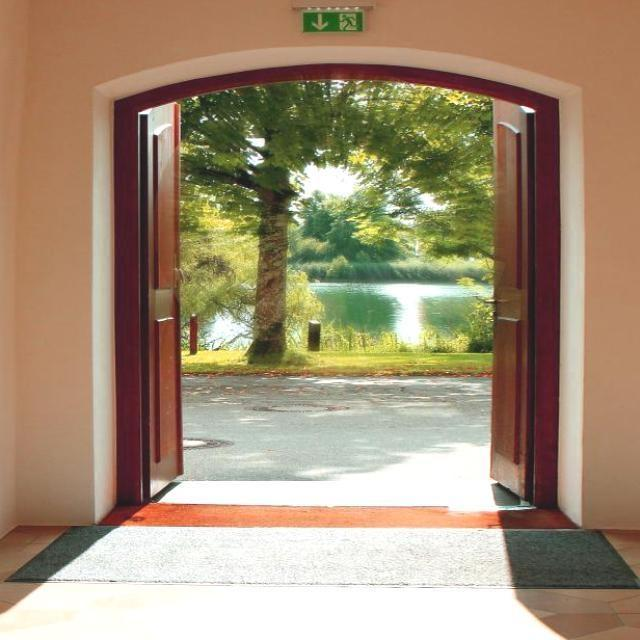door: (132, 93, 184, 507), (489, 89, 541, 500)
